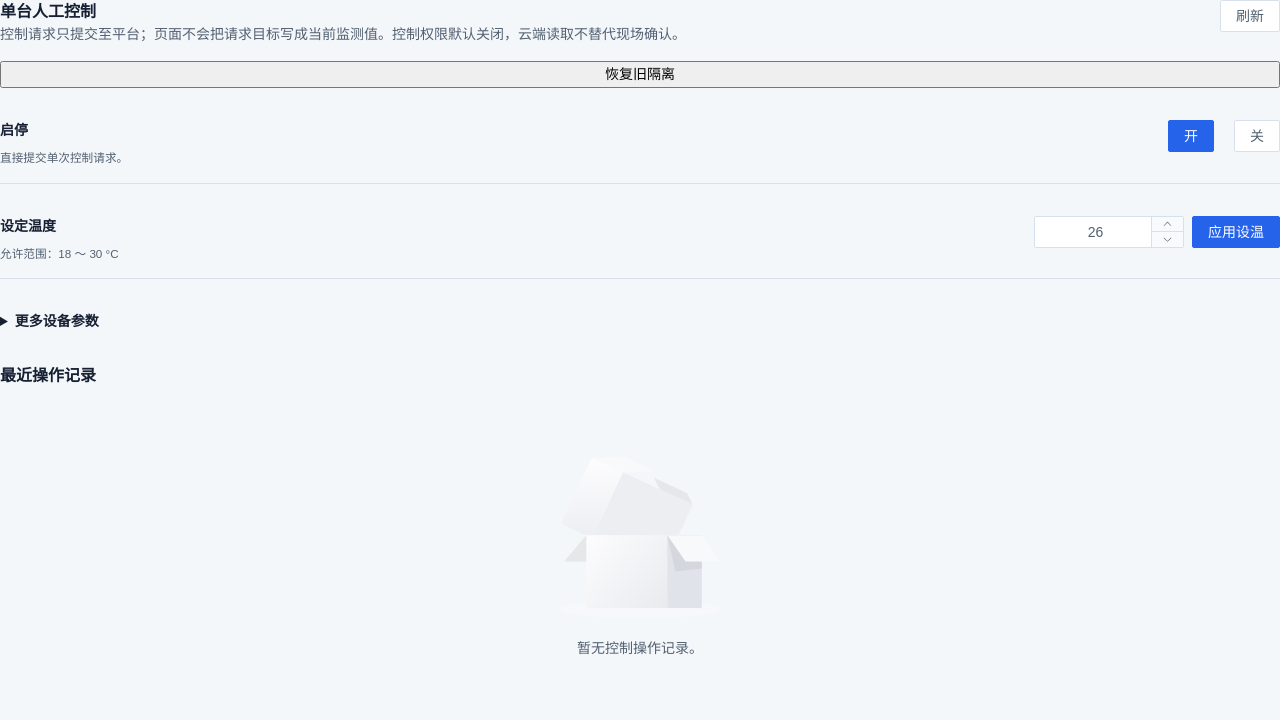
Test: 大金内机离线控制面板 › 以服务端当前设温初始化输入，并在云端核验终态自动刷新权限快照
Click the button with test id "apply-temperature-control": (1236, 232) [1192, 216, 1279, 248]
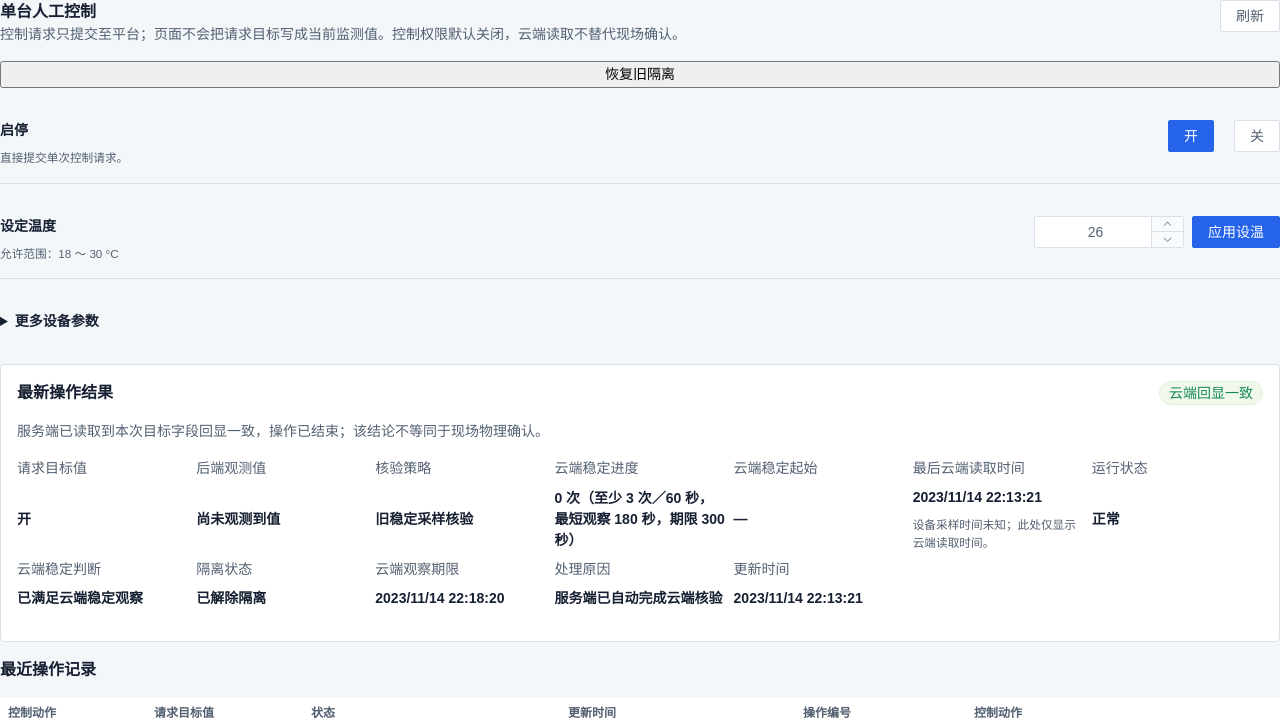
expect the text "云端回显一致" is shown: met, box [1169, 386, 1253, 400]
expect the text "不等同于现场物理确认" is shown: met, box [17, 423, 549, 439]
expect the text "服务端已自动完成云端核验" is shown: met, box [554, 588, 726, 609]
